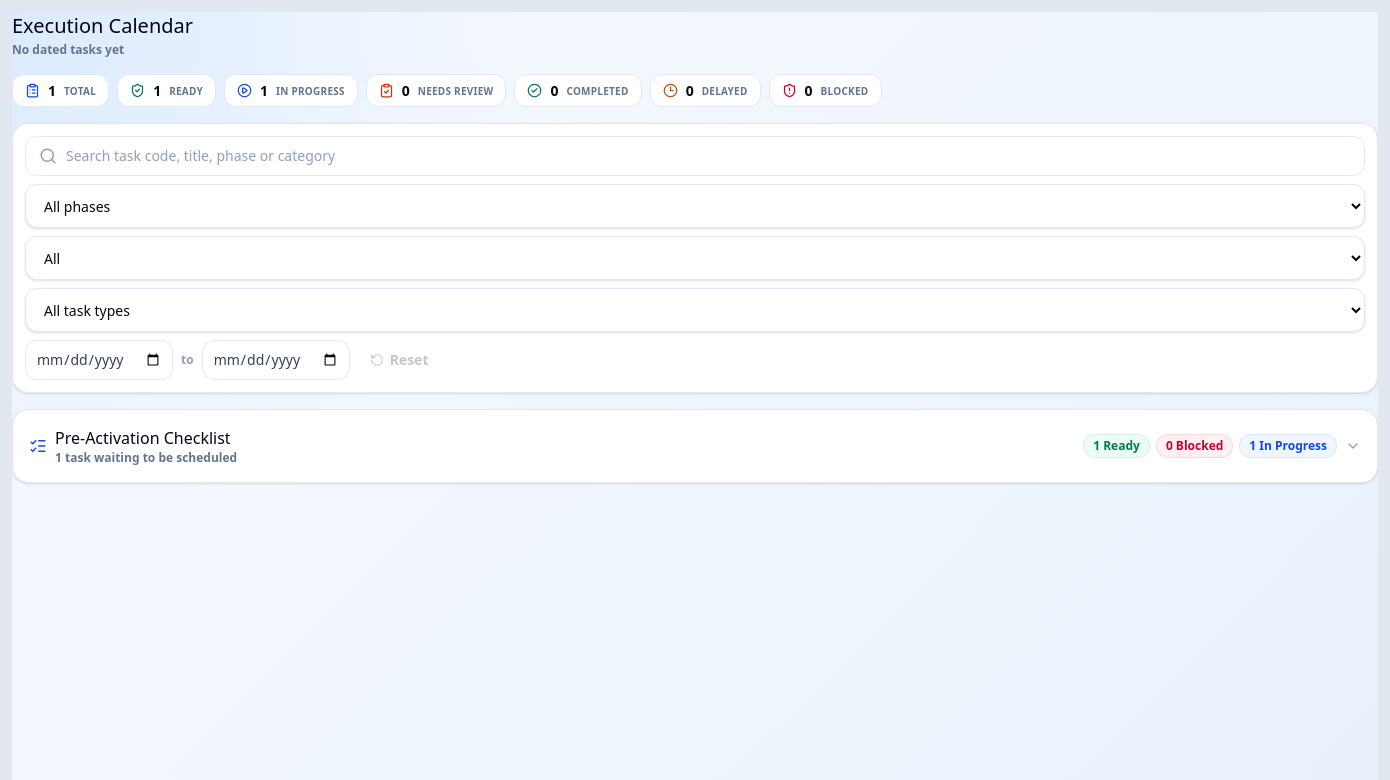
ExecutionCalendarView › renders a task with only an actual start date in the Pre-Activation Checklist, not the grid, collapsed by default
The width and height of the screenshot is (1390, 780).
Check: the heading "Pre-Activation Checklist" is shown, box [55,426,237,450]
Check: the text "1 task waiting to be scheduled" is shown, box [55,450,237,466]
Click the button "Pre-Activation Checklist" at (143, 438), box [13,410,1377,482]
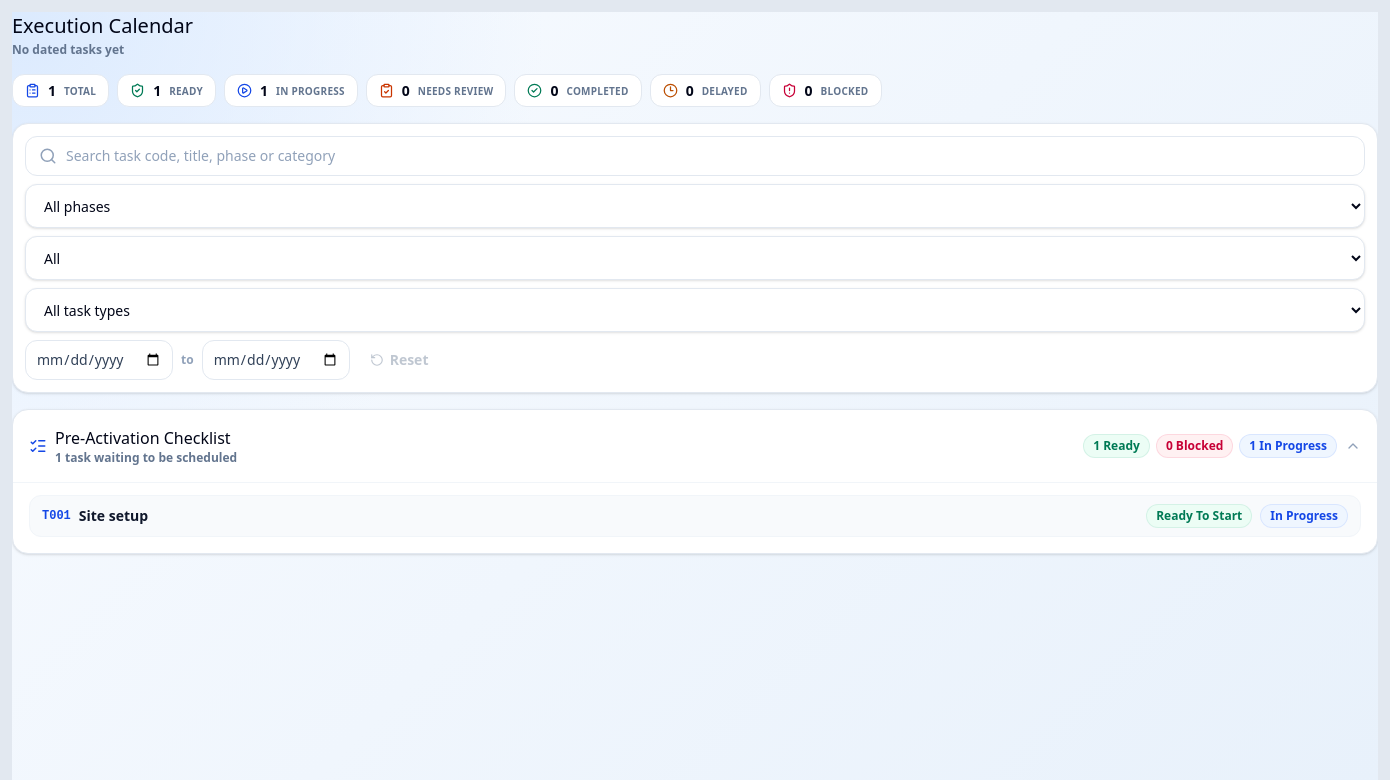
Check: the text "Site setup" is shown, box [79,506,148,525]
